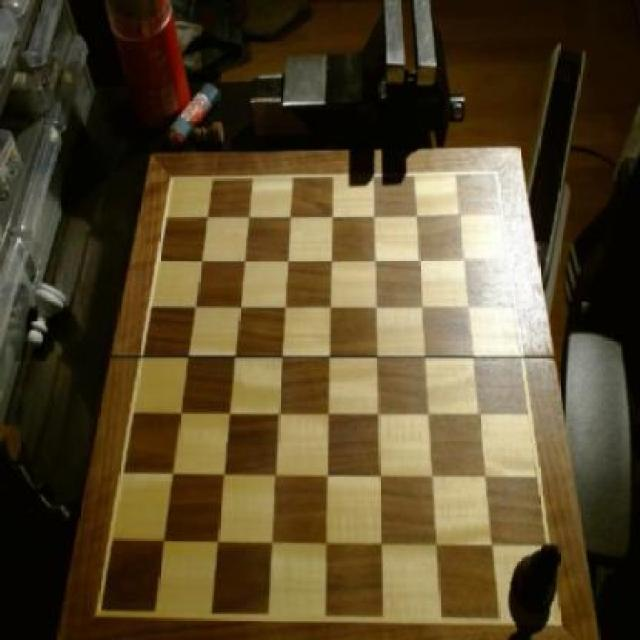bishop: (511, 538, 563, 618)
